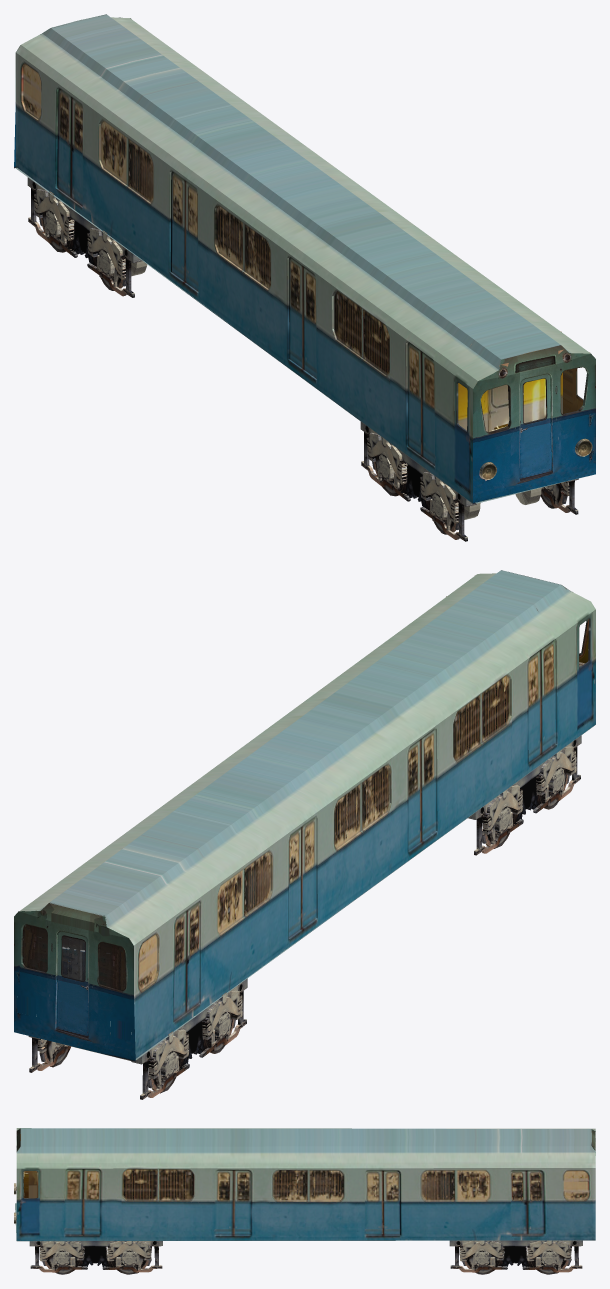
The model's file is metro_wagon_type_d.glb.
3 renders of one model, top to bottom at view 1: azimuth 30°, elevation 25°; view 2: azimuth 150°, elevation 25°; view 3: azimuth 270°, elevation 25°, orthographic. The views are drawn at different scales.
Parts seen in each view (by area): view 1: d_sides, d_torci, d_bogey_front, d_bogey_rear, cab_torec1, cab_sides; view 2: d_sides, d_torci, d_bogey_rear, d_bogey_front; view 3: d_sides, d_bogey_rear, d_bogey_front, cab_sides.
Part boxes in pixels (<box>): d_sides: <box>15,14,590,503</box>; d_torci: <box>14,14,595,504</box>; d_bogey_front: <box>360,422,578,541</box>; d_bogey_rear: <box>27,177,147,297</box>; cab_torec1: <box>458,331,562,432</box>; cab_sides: <box>520,350,583,413</box>; d_sides: <box>17,570,595,1059</box>; d_torci: <box>14,575,588,1061</box>; d_bogey_rear: <box>28,978,247,1099</box>; d_bogey_front: <box>468,735,581,855</box>; d_sides: <box>15,1128,595,1241</box>; d_bogey_rear: <box>449,1240,582,1274</box>; d_bogey_front: <box>29,1241,162,1274</box>; cab_sides: <box>20,1134,38,1198</box>.
Size of the model in its own units: 2.29 by 3.42 by 14.91.
41 materials, 41 textured.
